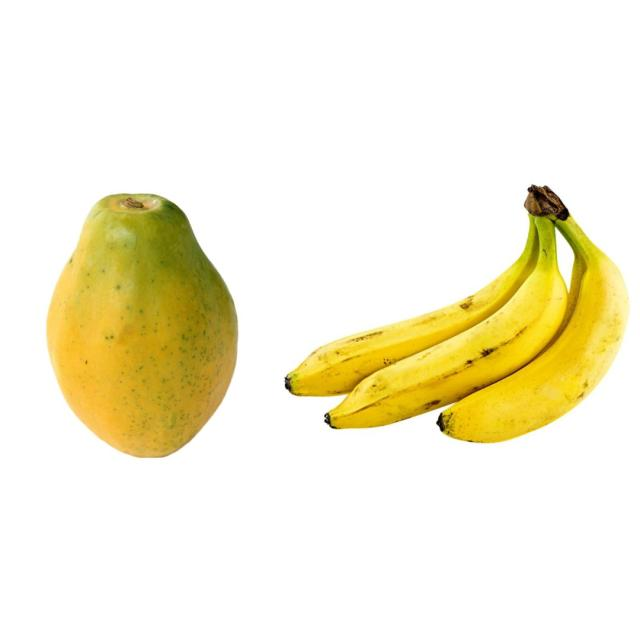Pepaya: (46, 191, 240, 458)
Pisang: (284, 182, 630, 444)
